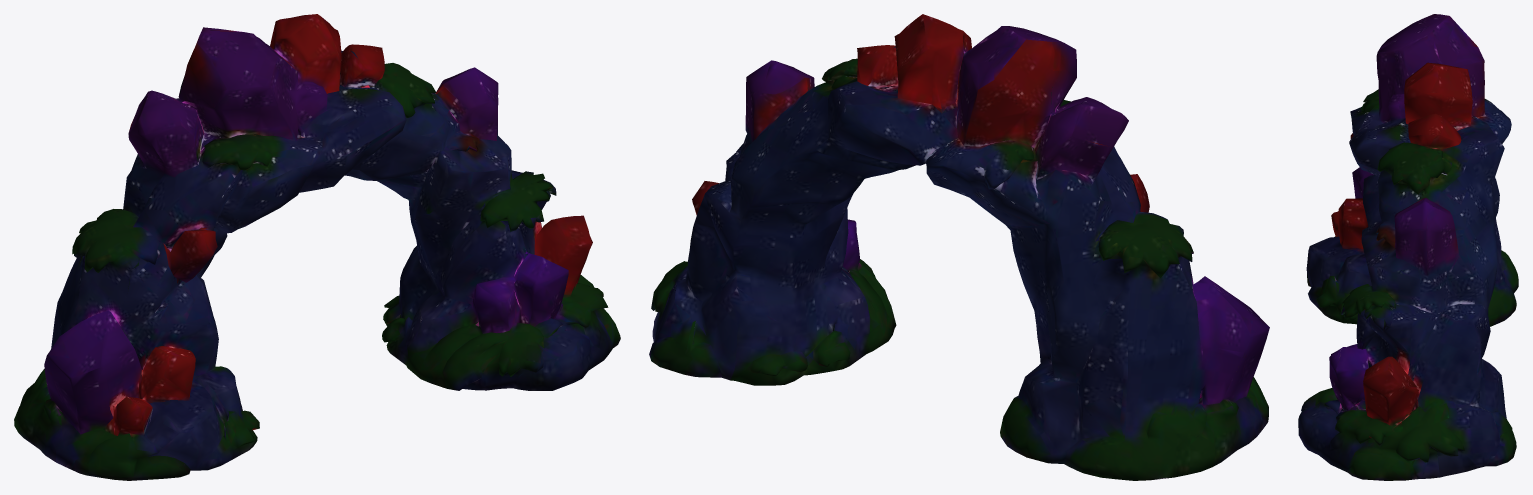
Rendered from crystal_arch-6oXzjqQH.glb.
3 renders of one model, left to right at view 1: azimuth 30°, elevation 25°; view 2: azimuth 150°, elevation 25°; view 3: azimuth 270°, elevation 25°, orthographic. The views are drawn at different scales.
Visible parts, largest first — view 1: crystal_arch; view 2: crystal_arch; view 3: crystal_arch.
Boxes of the visible parts, x1,y1,x2,y2 form: crystal_arch: (14,14,620,480); crystal_arch: (649,14,1269,480); crystal_arch: (1298,14,1518,480).
Bounding box in the file's own units: 11.2 × 7 × 4.5.
Materials: 1 (1 with a texture image).
